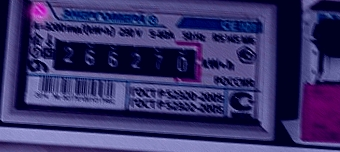0: (174, 53, 188, 71)
2: (60, 43, 74, 62), (129, 49, 141, 68)
6: (106, 48, 119, 67), (83, 46, 96, 64)
7: (152, 50, 164, 69)
screen: (42, 27, 208, 87)
